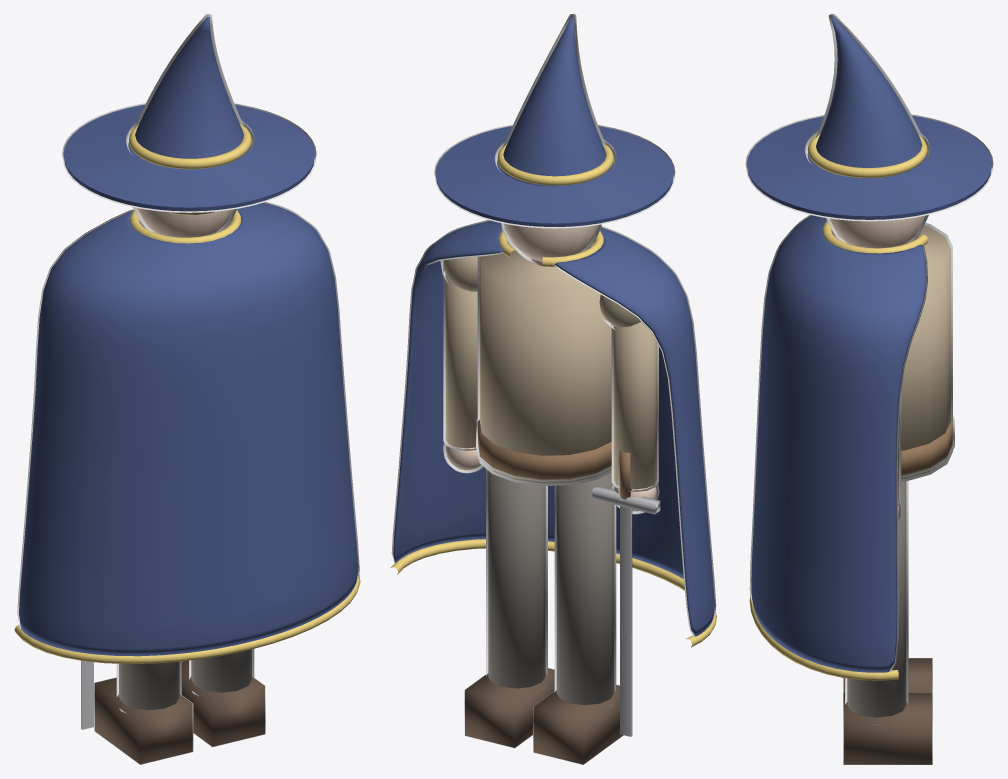
The model's file is player.glb.
3 renders of one model, left to right at view 1: azimuth 30°, elevation 25°; view 2: azimuth 150°, elevation 25°; view 3: azimuth 270°, elevation 25°, orthographic. The views are drawn at different scales.
Parts seen in each view (by area): view 1: Cloak, Hat_Brim, Hat, Boot_R, Boot_L, Cloak_Trim, Leg_R, Leg_L, Head, Hat_Band, Collar_Trim, Sword_Blade; view 2: Cloak, Torso, Hat_Brim, Leg_R, Leg_L, Hat, Arm_R, Arm_L, Boot_R, Boot_L, Belt, Sword_Blade (+9 smaller); view 3: Cloak, Hat_Brim, Hat, Torso, Boot_L, Leg_L, Head, Hat_Band, Belt, Cloak_Trim, Boot_R, Collar_Trim.
Part boxes in pixels (x1,y1,x2,y2): Cloak: (17, 202, 359, 656); Hat_Brim: (62, 103, 316, 212); Hat: (133, 14, 244, 158); Boot_R: (94, 677, 193, 764); Boot_L: (182, 660, 265, 747); Cloak_Trim: (14, 573, 360, 663); Leg_R: (116, 661, 181, 713); Leg_L: (189, 649, 254, 695); Head: (133, 207, 237, 237); Hat_Band: (126, 121, 254, 169); Collar_Trim: (129, 210, 240, 243); Sword_Blade: (81, 660, 93, 729); Cloak: (391, 220, 716, 637); Torso: (477, 241, 611, 485); Hat_Brim: (434, 124, 675, 228); Leg_R: (554, 472, 616, 708); Leg_L: (486, 469, 547, 691); Hat: (501, 14, 606, 186); Arm_R: (611, 322, 658, 491); Arm_L: (443, 263, 477, 450); Boot_R: (533, 684, 623, 764); Boot_L: (464, 668, 554, 748); Belt: (476, 418, 611, 481); Sword_Blade: (620, 506, 632, 736); Cloak: (749, 215, 927, 672); Hat_Brim: (745, 114, 993, 221); Hat: (815, 14, 925, 178); Torso: (832, 223, 952, 481); Boot_L: (843, 692, 932, 764); Leg_L: (845, 481, 908, 725); Head: (826, 215, 928, 248); Hat_Band: (804, 130, 930, 178); Belt: (901, 416, 954, 477); Cloak_Trim: (749, 596, 898, 680); Boot_R: (843, 658, 932, 692); Collar_Trim: (822, 221, 928, 253).
Bounding box in the file's own units: 0.6786 × 1.48 × 0.4607.
